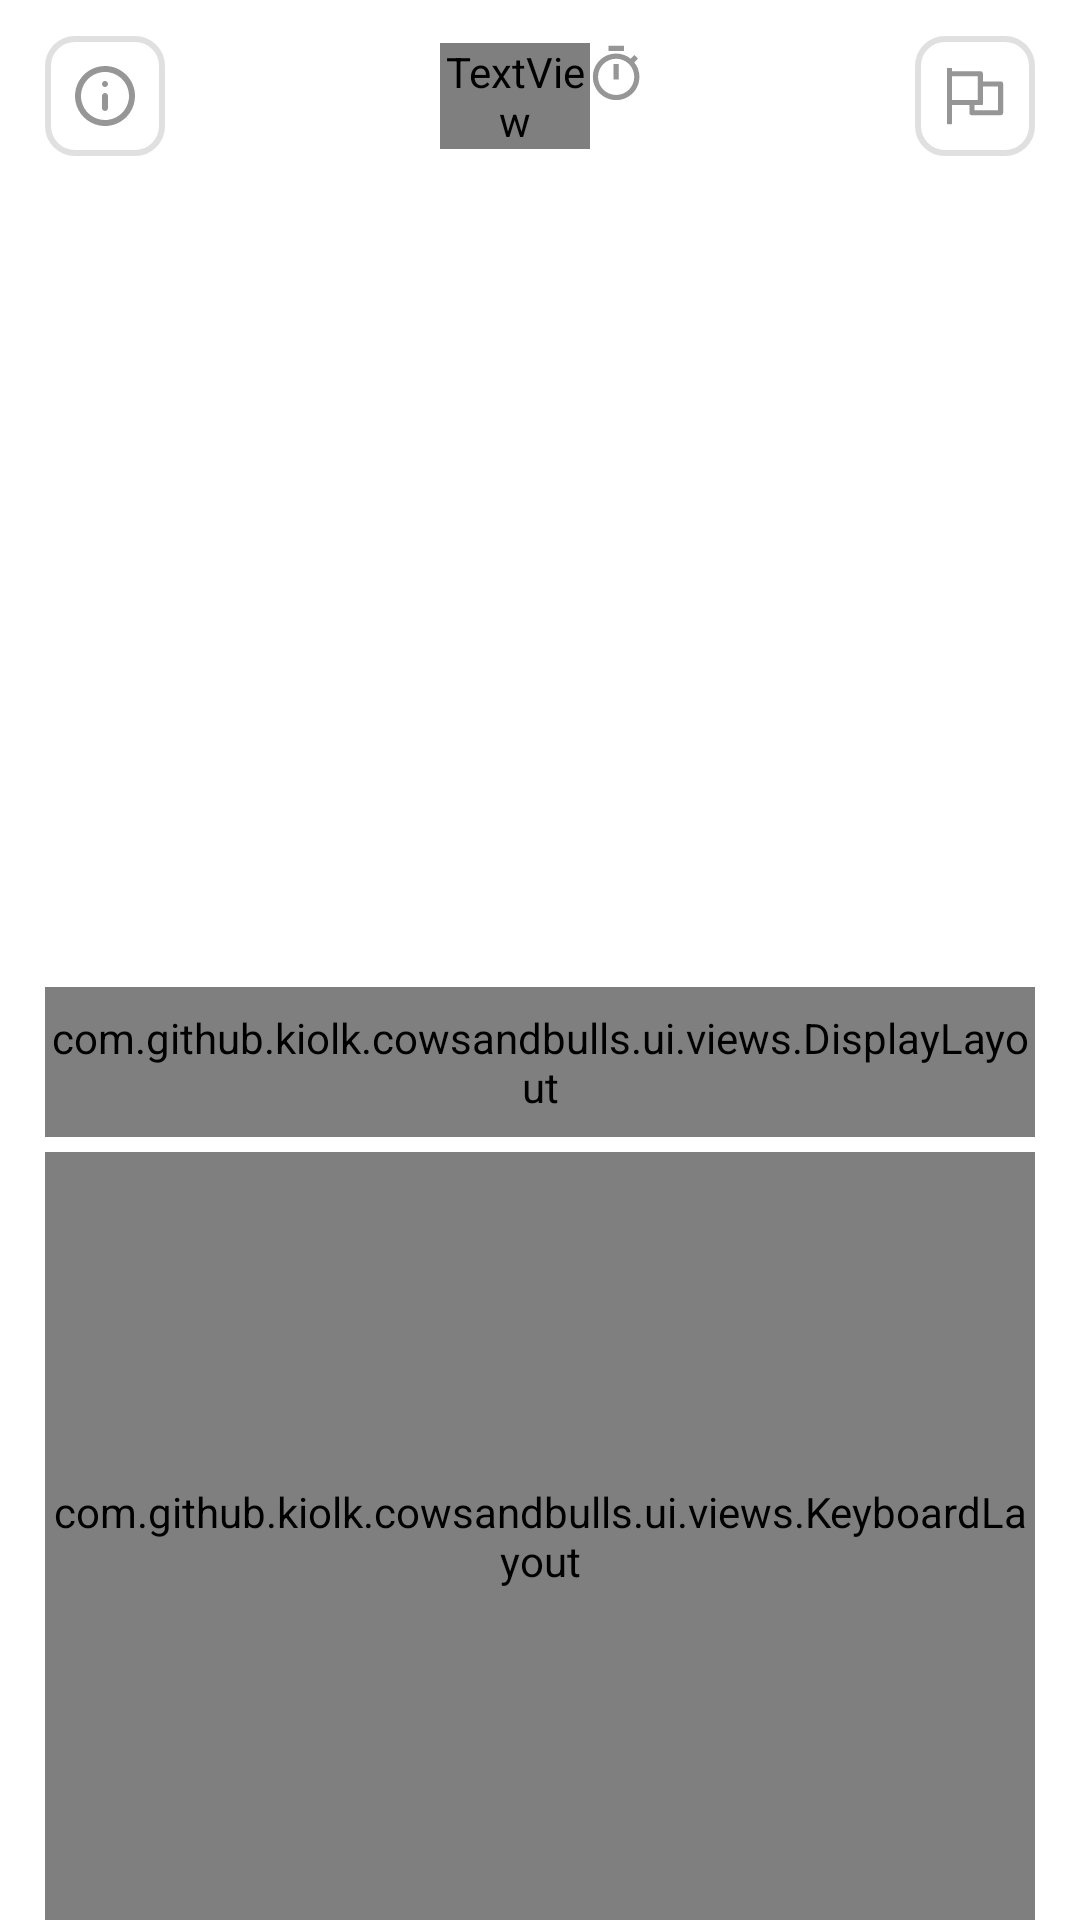

Screen size 1080px×1920px. Icon name, then its box in pixels as rect(x1, y1, x2, y2):
result: rect(915, 36, 1035, 156)
rules: rect(45, 36, 165, 156)
timer: rect(593, 45, 640, 100)
